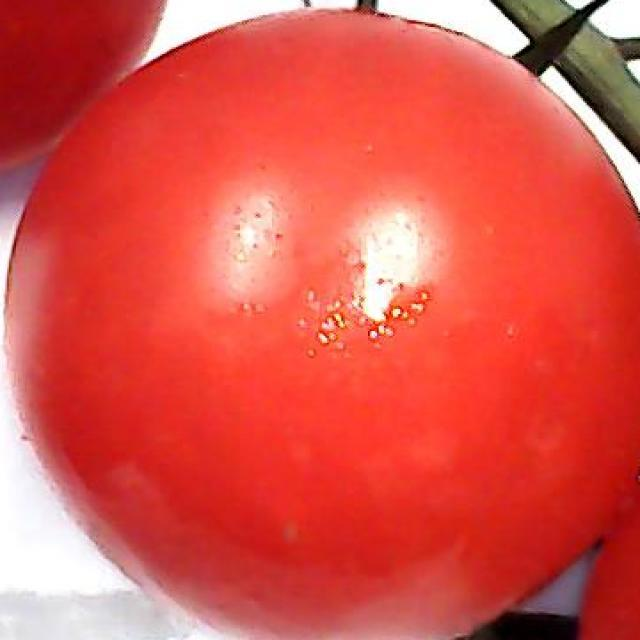Healthy: (2, 41, 602, 640)
